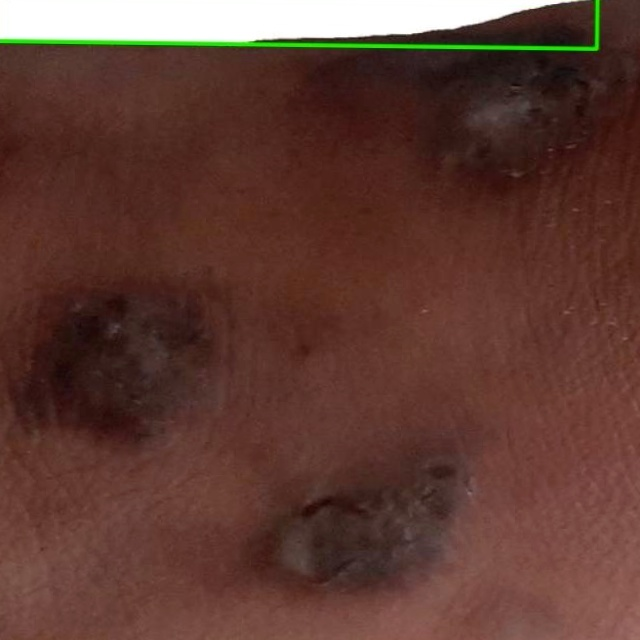Contact Dermatitis: (0, 0, 597, 48)
